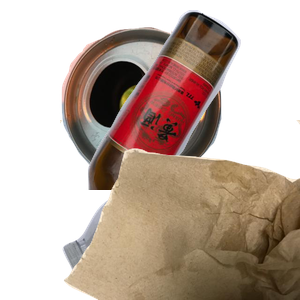glass: (85, 10, 300, 190)
metal: (59, 10, 273, 189)
plastic: (60, 190, 300, 280)
trash: (60, 120, 300, 300)
